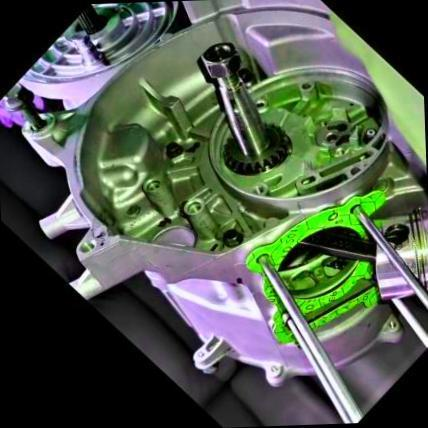hole: (178, 191, 208, 220), (136, 170, 164, 198), (74, 233, 100, 260), (246, 177, 270, 201)
